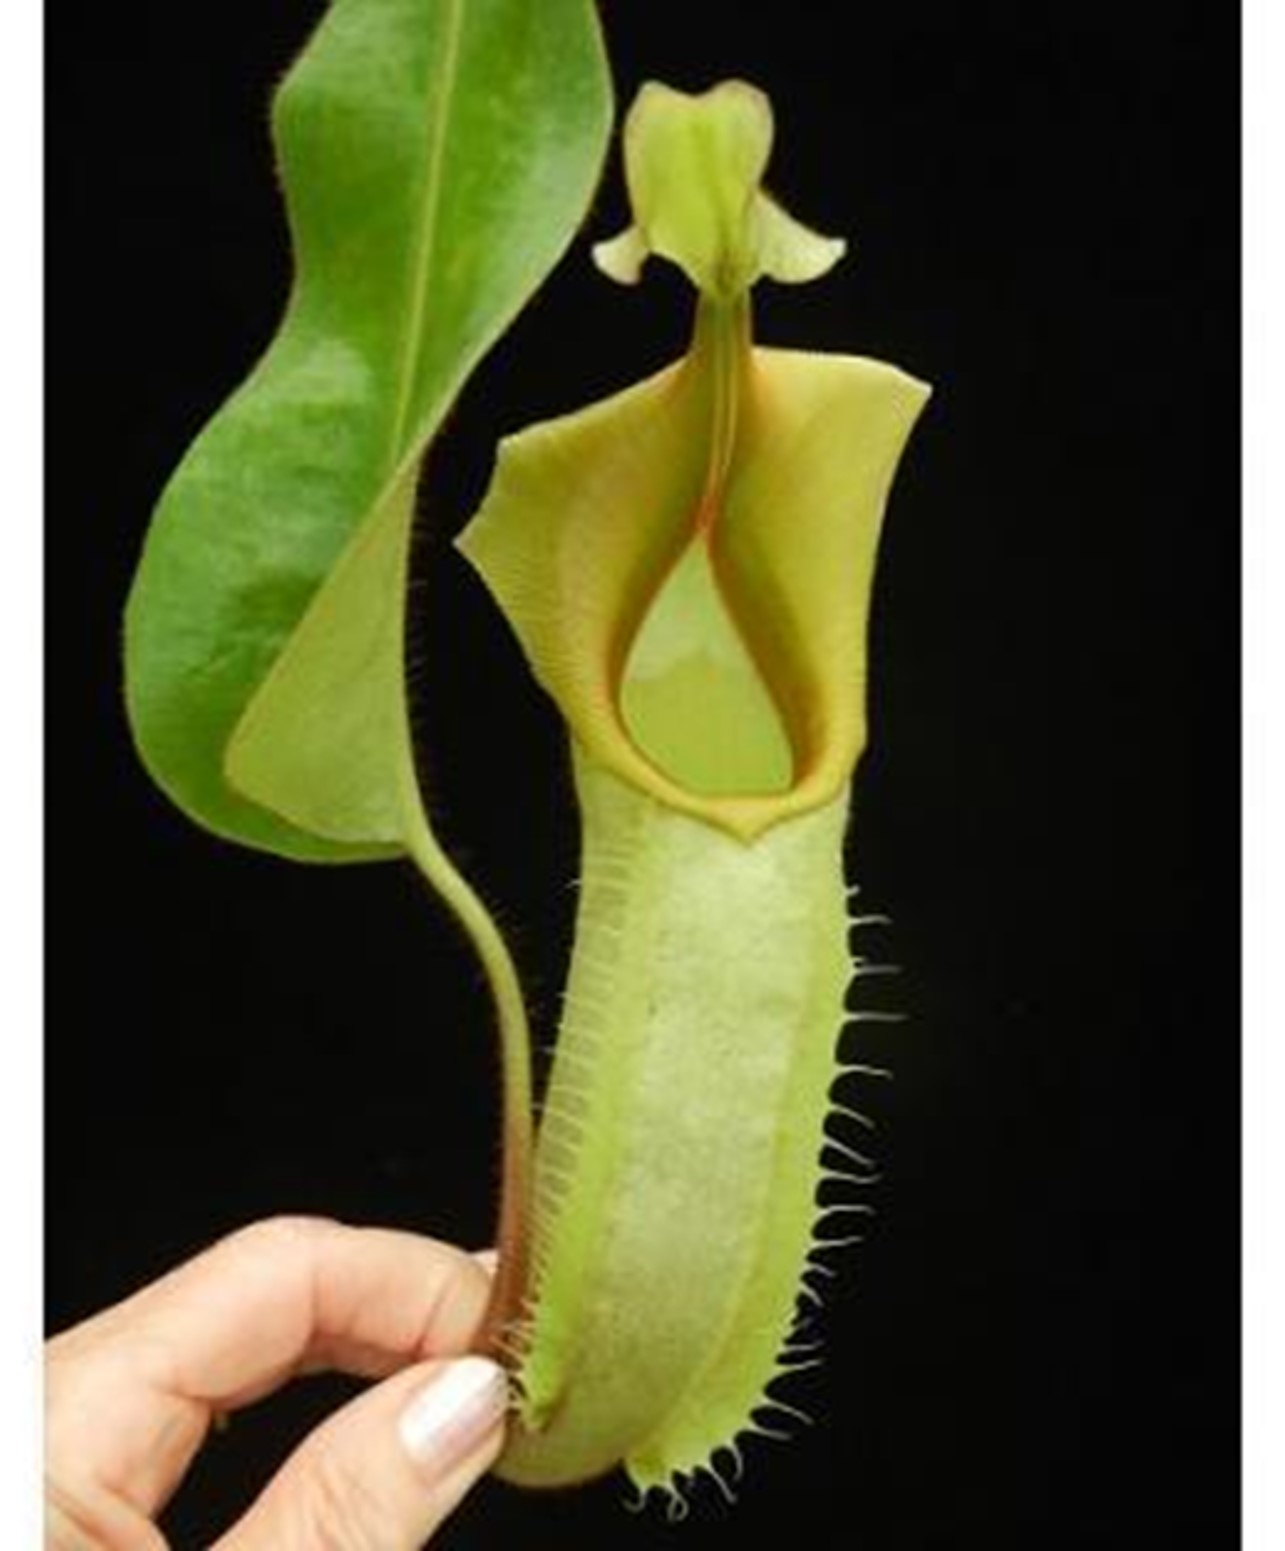veitchii: (424, 57, 967, 1536)
